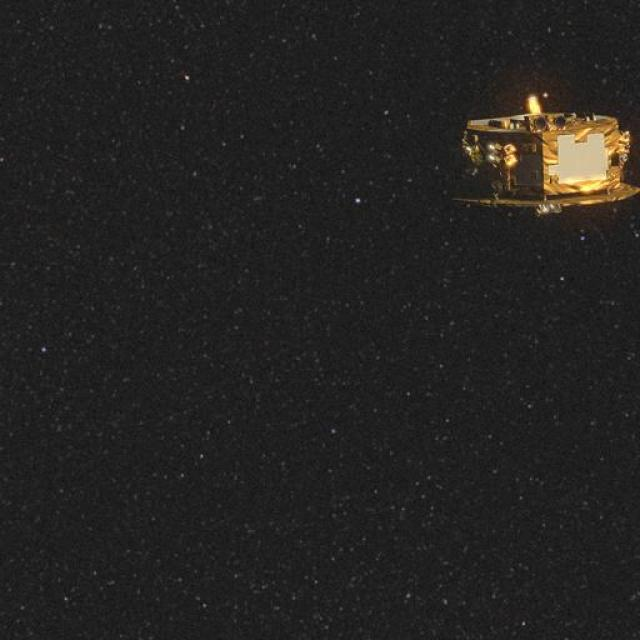lisa_pathfinder: (421, 64, 640, 254)
